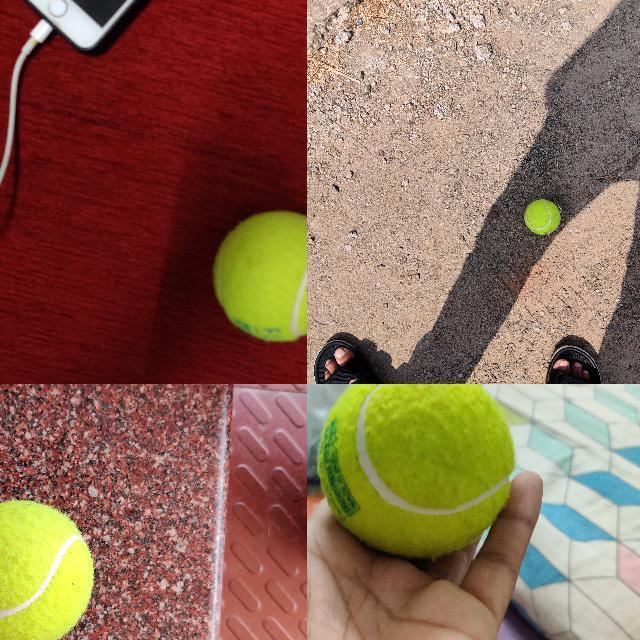tennis-ball: (316, 384, 514, 558), (0, 499, 95, 639), (212, 209, 306, 341), (524, 199, 560, 234)
